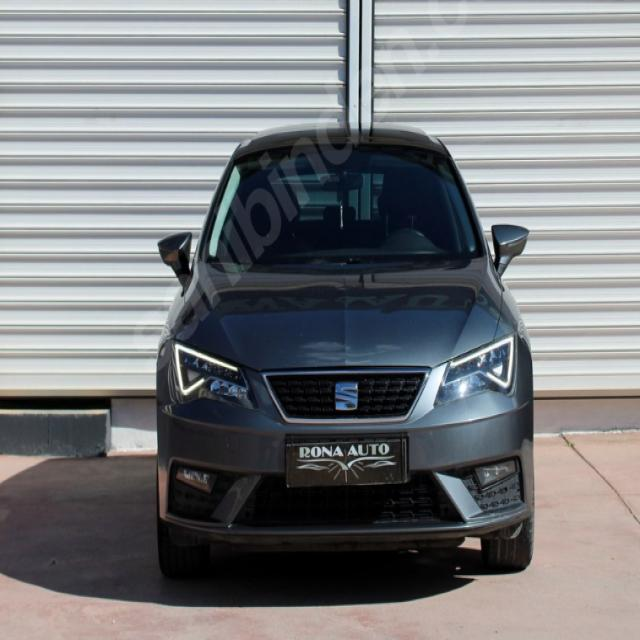seat: (331, 379, 363, 415)
